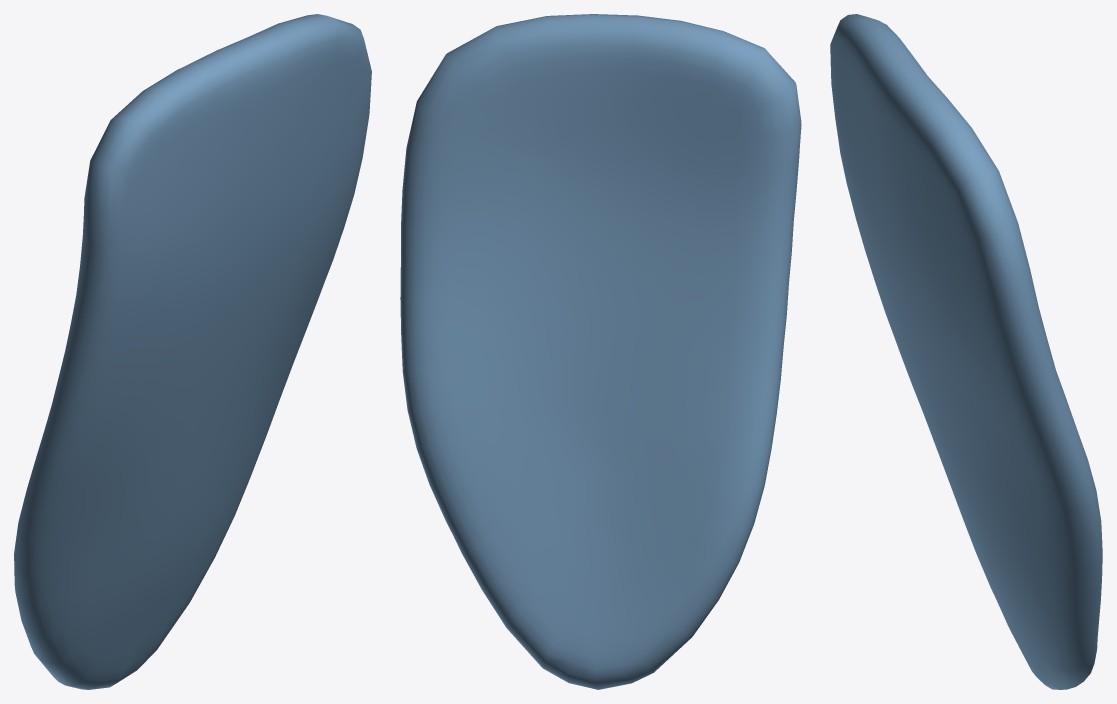
The model's file is BR2_Enamel_Diamond.001 2.glb.
The picture shows the model from 3 angles, left to right: view 1: azimuth 30°, elevation 25°; view 2: azimuth 150°, elevation 25°; view 3: azimuth 270°, elevation 25°; orthographic projection. The views are drawn at different scales.
Visible parts, largest first — view 1: BR2_Enamel_Diamond.001; view 2: BR2_Enamel_Diamond.001; view 3: BR2_Enamel_Diamond.001.
Part boxes in pixels (left/top/right/bottom): BR2_Enamel_Diamond.001: left=14, top=14, right=371, bottom=689; BR2_Enamel_Diamond.001: left=400, top=14, right=801, bottom=689; BR2_Enamel_Diamond.001: left=830, top=14, right=1102, bottom=689.
Size of the model in its own units: 0.4625 by 0.8121 by 0.3085.
